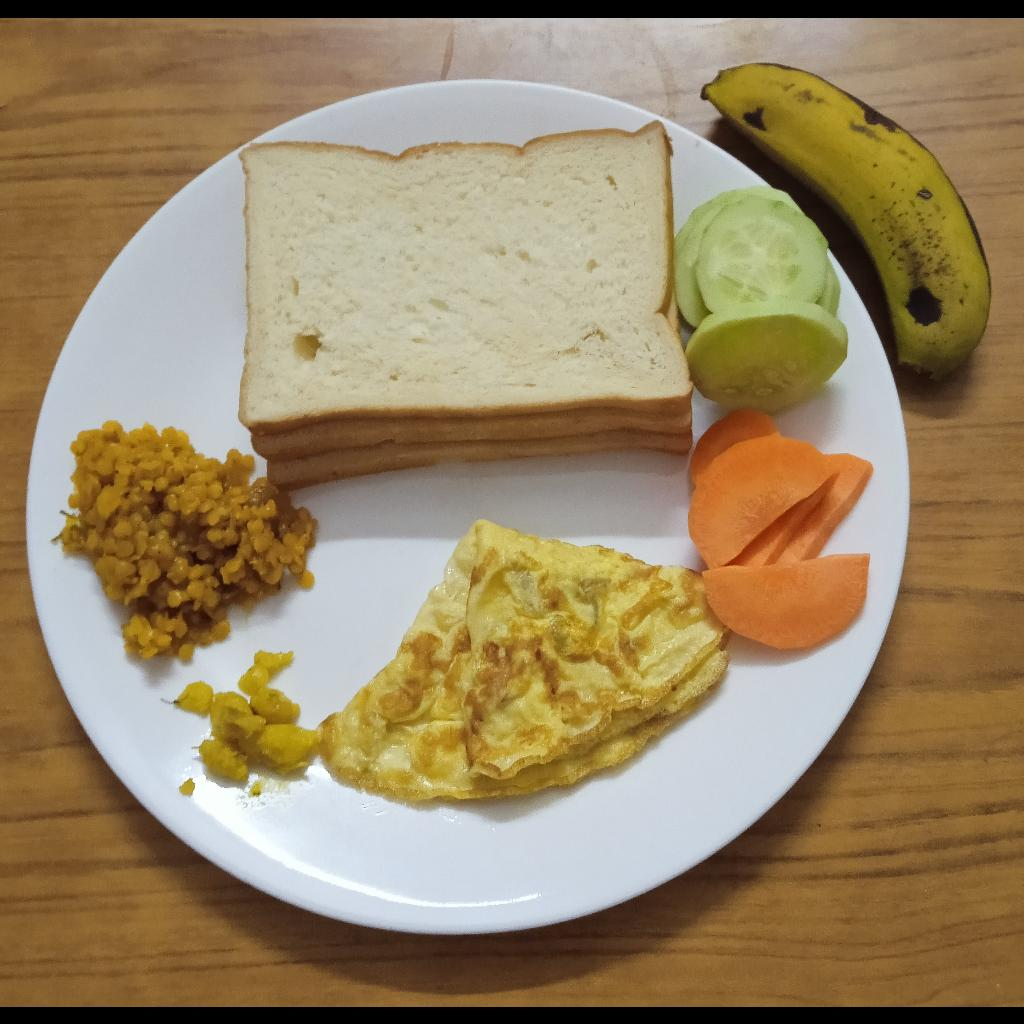banana: (700, 60, 992, 383)
bread: (238, 117, 695, 491)
carrot: (687, 406, 874, 649)
cucumber: (675, 184, 847, 414)
daal: (61, 420, 316, 662)
egg-poached: (315, 516, 733, 801)
kumra-vaji: (175, 653, 322, 780)
